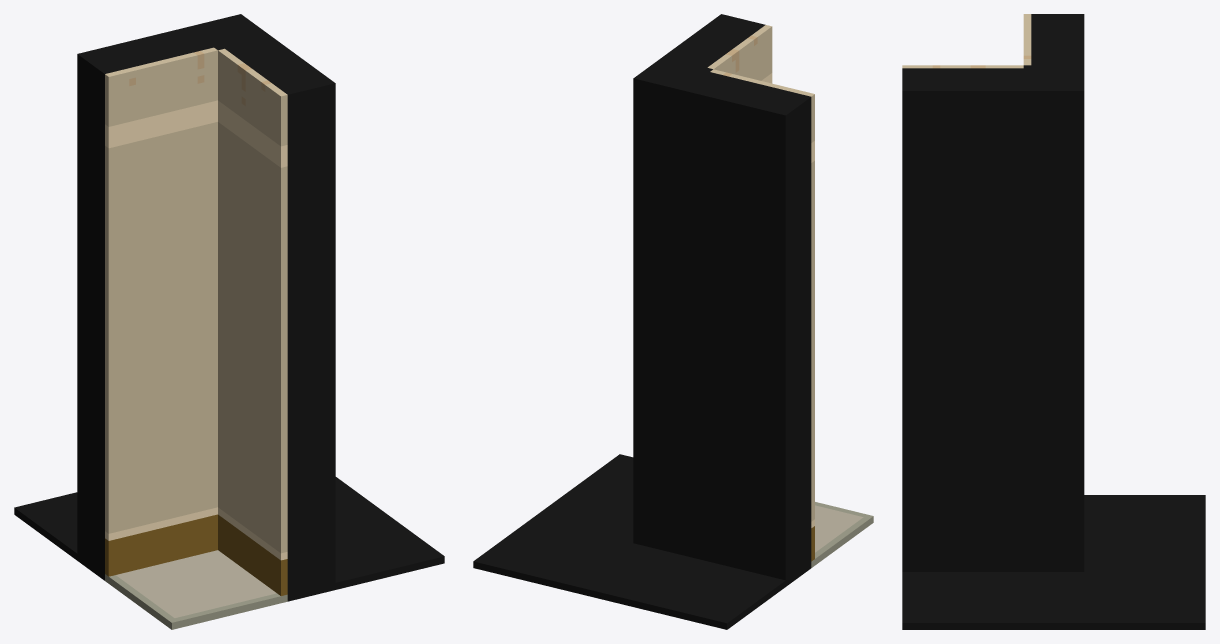
File: Parede_Curva_1.obj
3 renders of one model, left to right at view 1: azimuth 30°, elevation 25°; view 2: azimuth 150°, elevation 25°; view 3: azimuth 270°, elevation 25°, orthographic. The views are drawn at different scales.
Bounding box in the file's own units: 40 × 71 × 40.
Materials: 1 (1 with a texture image).
